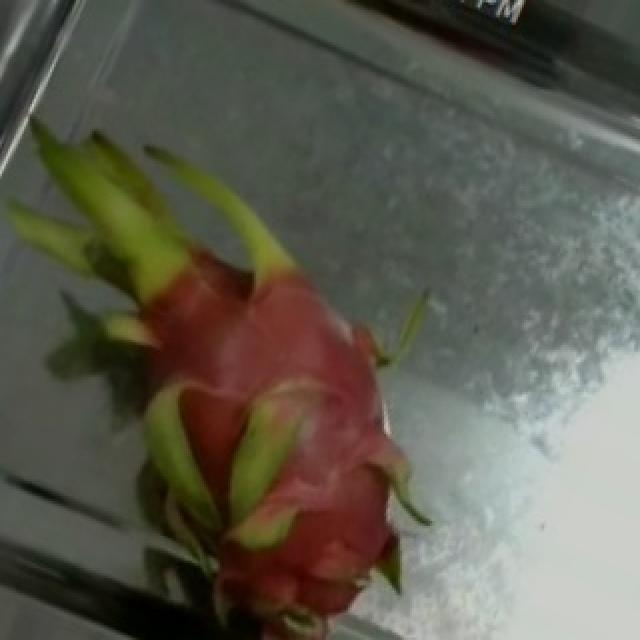fruit: (4, 102, 420, 568)
